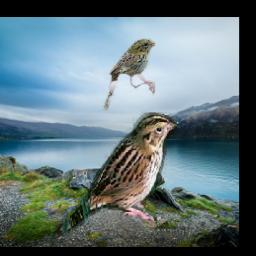Sparrow: (43, 112, 178, 242), (102, 39, 155, 110)
